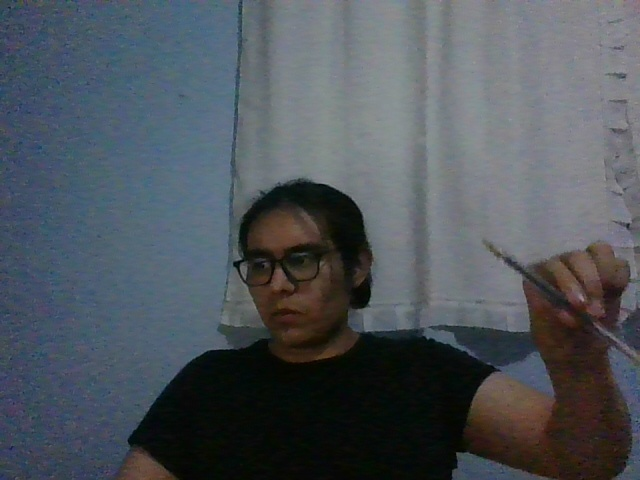pluma: (480, 237, 640, 364)
